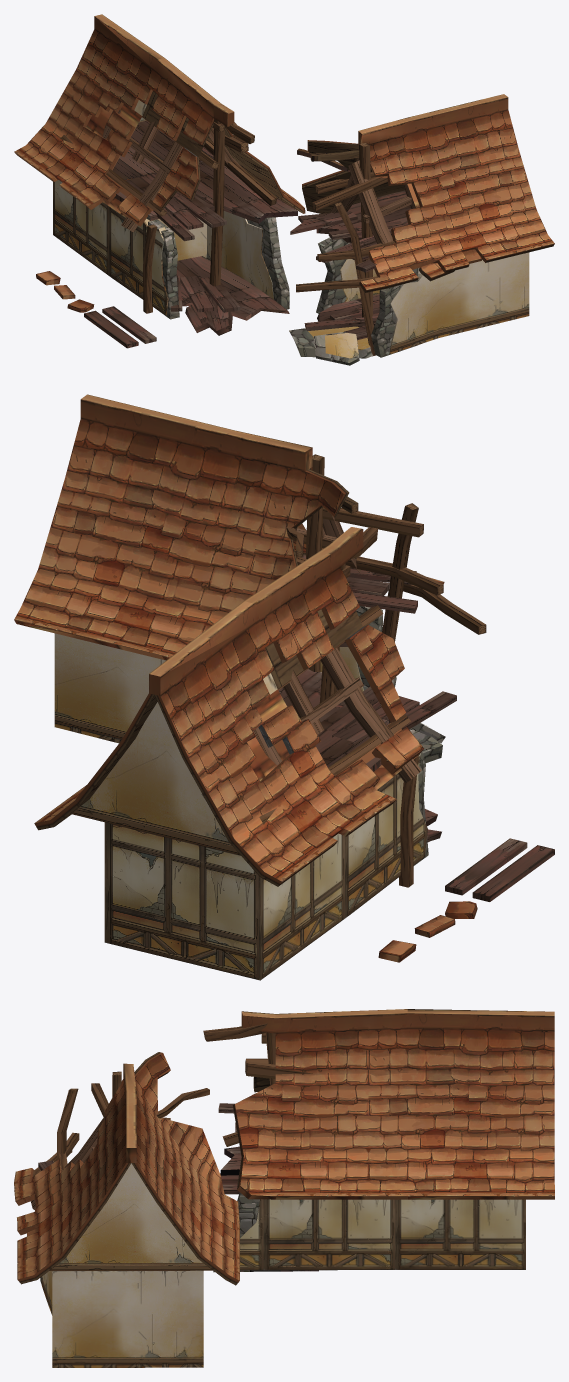
Rendered from 2_CZ_PoFangZi_01.FBX.
3 views of the same model, one above another, from view 1: azimuth 30°, elevation 25°; view 2: azimuth 150°, elevation 25°; view 3: azimuth 270°, elevation 25° (orthographic). The views are drawn at different scales.
Visible parts, largest first — view 1: 2_CZ_PoFangZi_01, 2_CZ_PoFangZi_02, 2_CZ_PoFangZi_09, 2_CZ_PoFangZi_08, 2_CZ_PoFangZi_03, 2_CZ_PoFangZi_04; view 2: 2_CZ_PoFangZi_01, 2_CZ_PoFangZi_02, 2_CZ_PoFangZi_08, 2_CZ_PoFangZi_09; view 3: 2_CZ_PoFangZi_01, 2_CZ_PoFangZi_02.
Part boxes in pixels (x1,y1,x2,y2): 2_CZ_PoFangZi_01: (14,14,305,335); 2_CZ_PoFangZi_02: (290,94,554,358); 2_CZ_PoFangZi_09: (102,306,156,343); 2_CZ_PoFangZi_08: (84,310,138,348); 2_CZ_PoFangZi_03: (289,327,372,358); 2_CZ_PoFangZi_04: (313,332,359,365); 2_CZ_PoFangZi_01: (34,527,456,980); 2_CZ_PoFangZi_02: (14,394,486,743); 2_CZ_PoFangZi_08: (472,845,554,901); 2_CZ_PoFangZi_09: (445,838,527,895); 2_CZ_PoFangZi_01: (203,1009,554,1272); 2_CZ_PoFangZi_02: (14,1052,239,1367).
Bounding box in the file's own units: 1777 × 1003 × 2041.
Materials: 4 (4 with a texture image).
